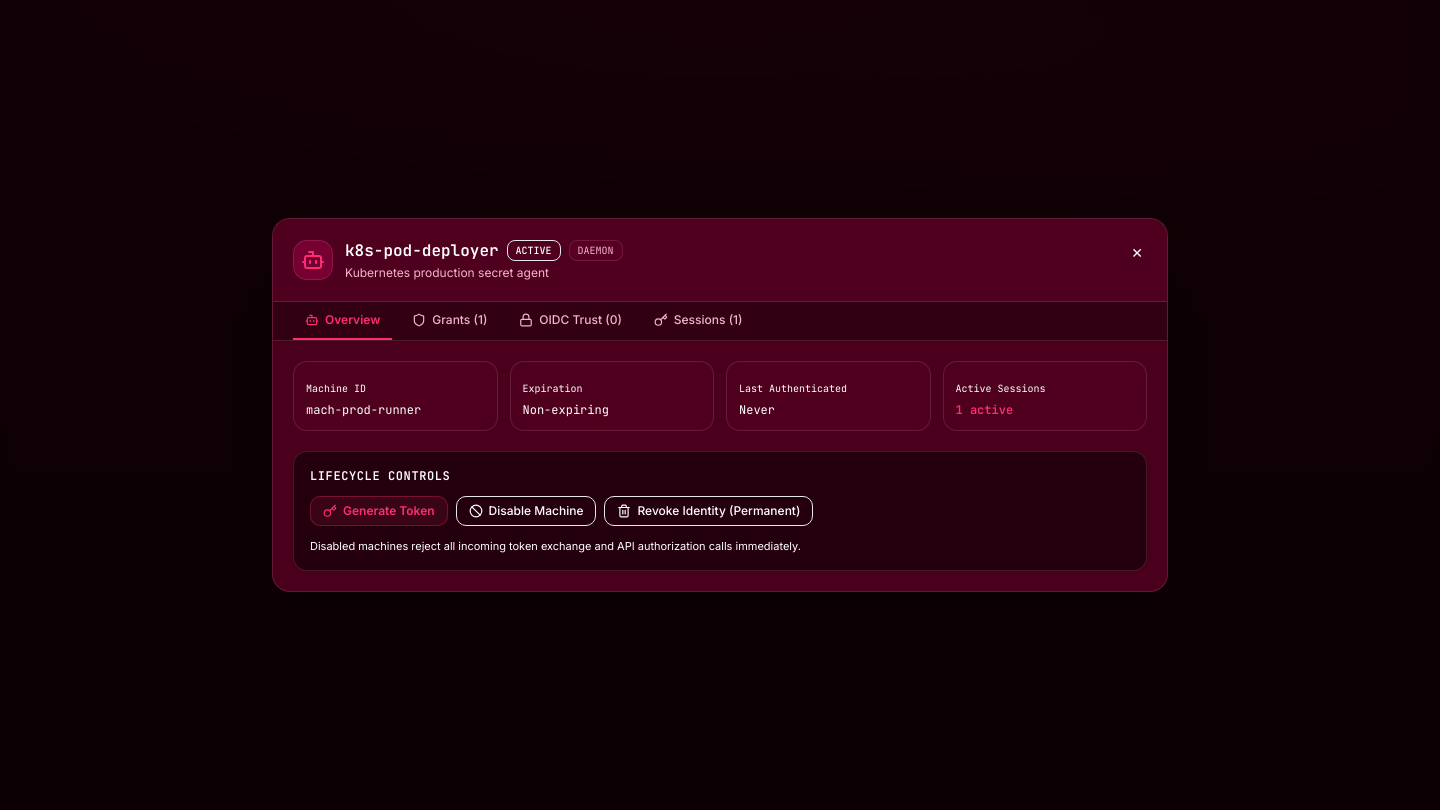
Test: Machine Identities & OIDC Providers UI Suite › MachineDetailsModal & Direct Token Generation › opens Generate Token modal and receives production SDK token snippet
The image size is (1440, 810).
Expected: the heading "k8s-pod-deployer" is shown, top-left (345, 239), bottom-right (499, 263)
Click "Generate Token" from overview lifecycle controls
Click the button "Generate Token": (379, 511) top-left (310, 496), bottom-right (448, 526)
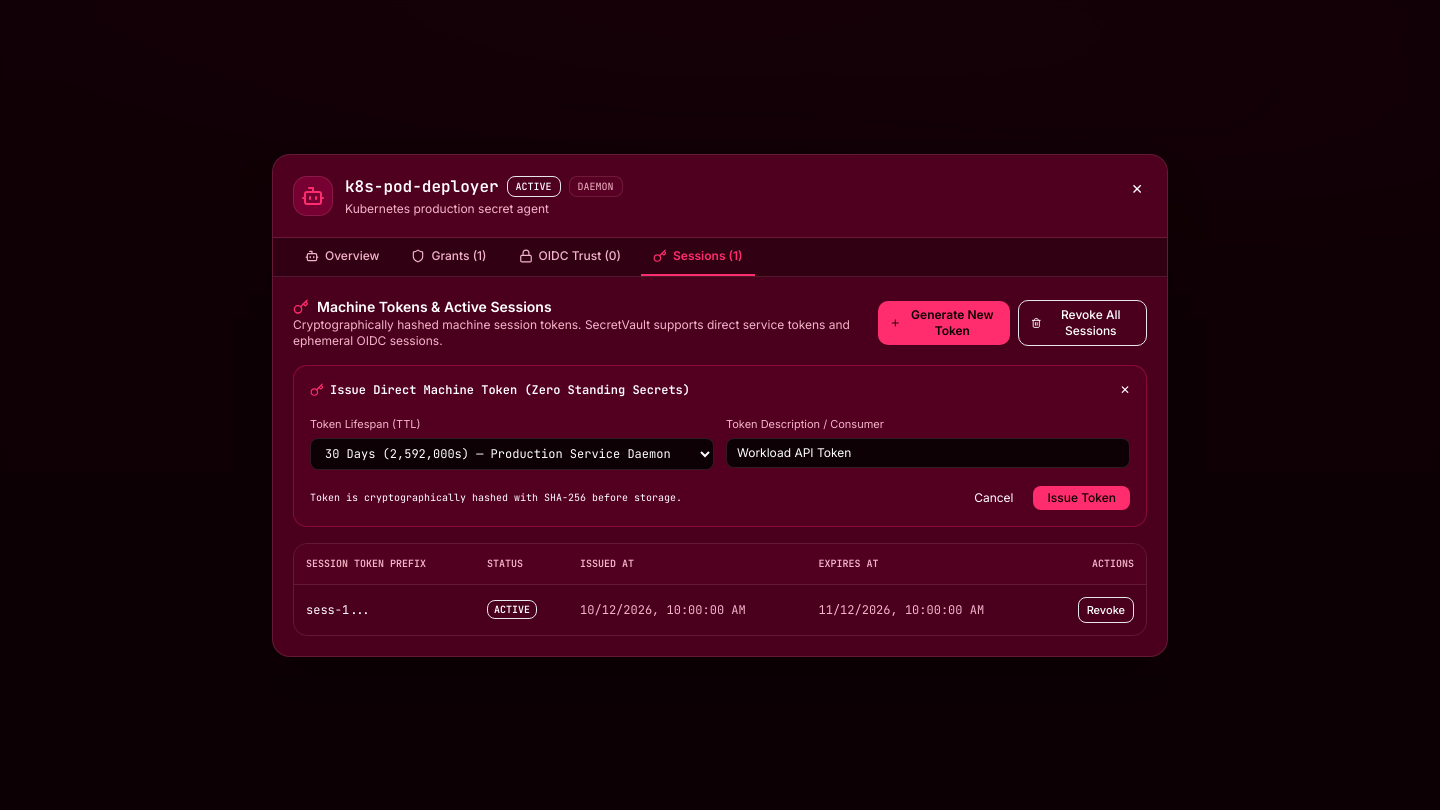
Expected: the heading "Issue Direct Machine Token (Zero Standing Secrets)" is shown, top-left (310, 382), bottom-right (690, 398)
Submit token issuance
Click the button "Issue Token": (1082, 498) top-left (1034, 486), bottom-right (1130, 510)
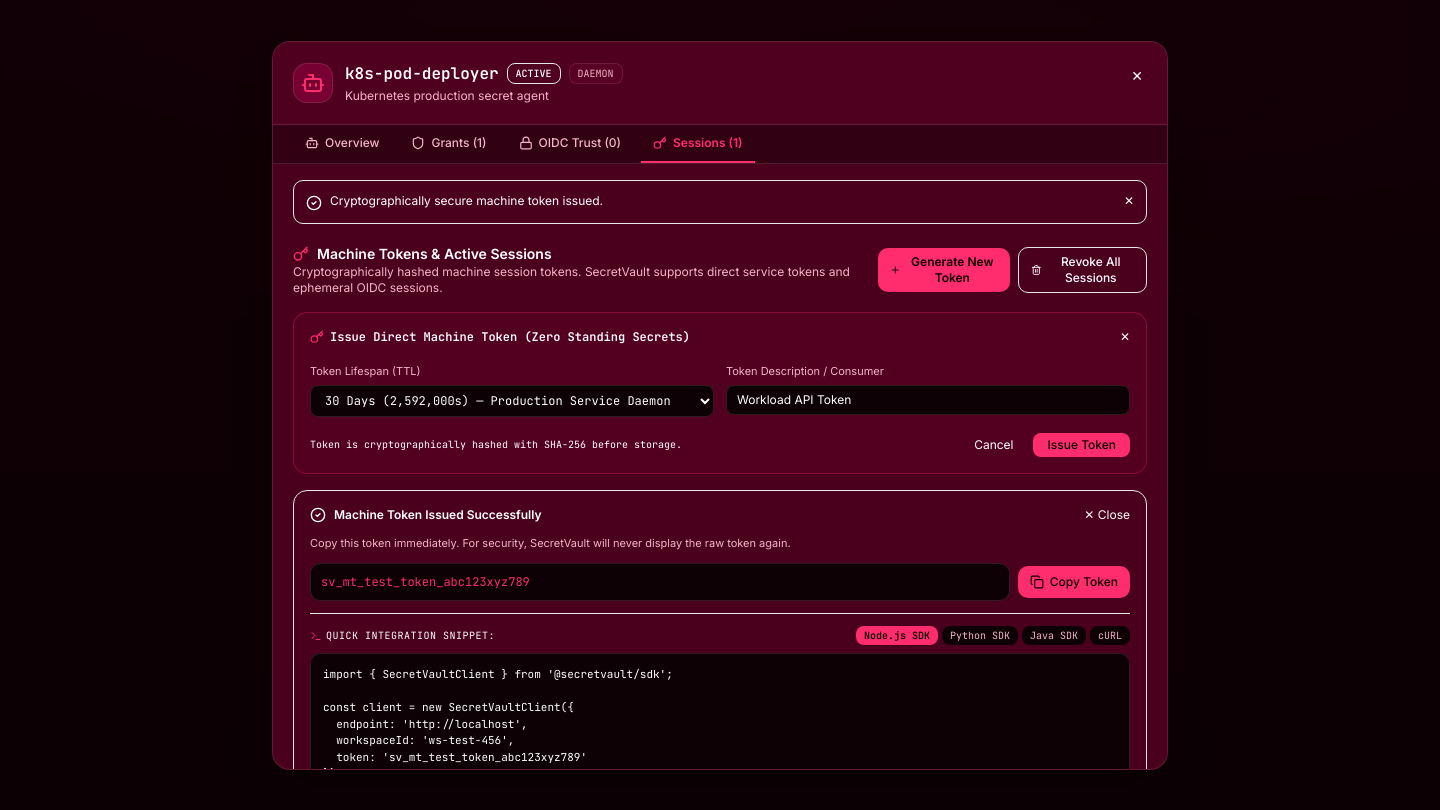
Expected: the text "Machine Token Issued Successfully" is shown, top-left (310, 506), bottom-right (542, 522)
Expected: the text "sv_mt_test_token_abc123xyz789" is shown, top-left (310, 563), bottom-right (1010, 601)
Expected: the button "Node.js SDK" is shown, top-left (856, 626), bottom-right (938, 645)
Switch to Python SDK tab
Click the button "Python SDK": (980, 636) top-left (942, 626), bottom-right (1018, 645)
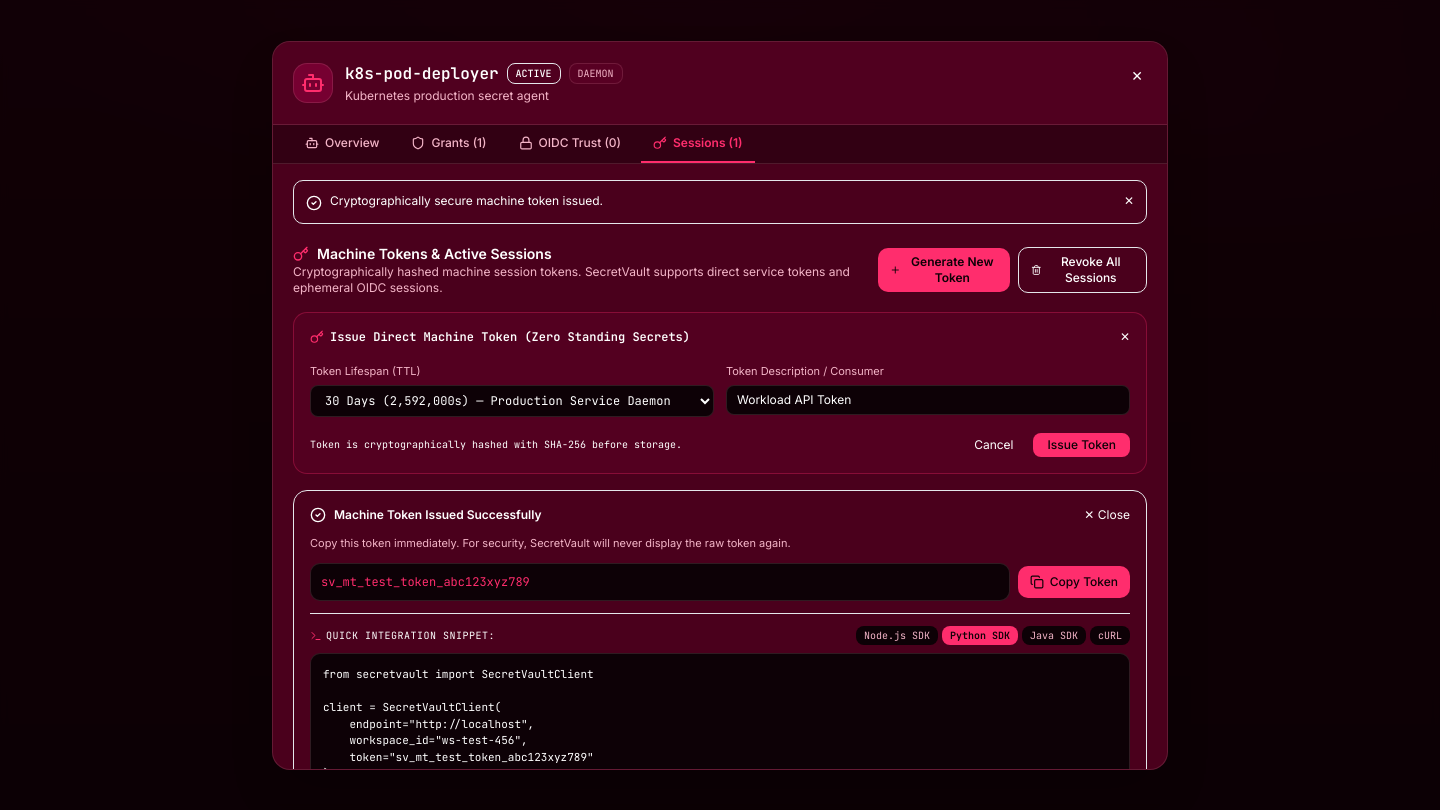
Switch to Java SDK tab
Click the button "Java SDK": (1054, 636) top-left (1022, 626), bottom-right (1086, 645)
(page scrolled)
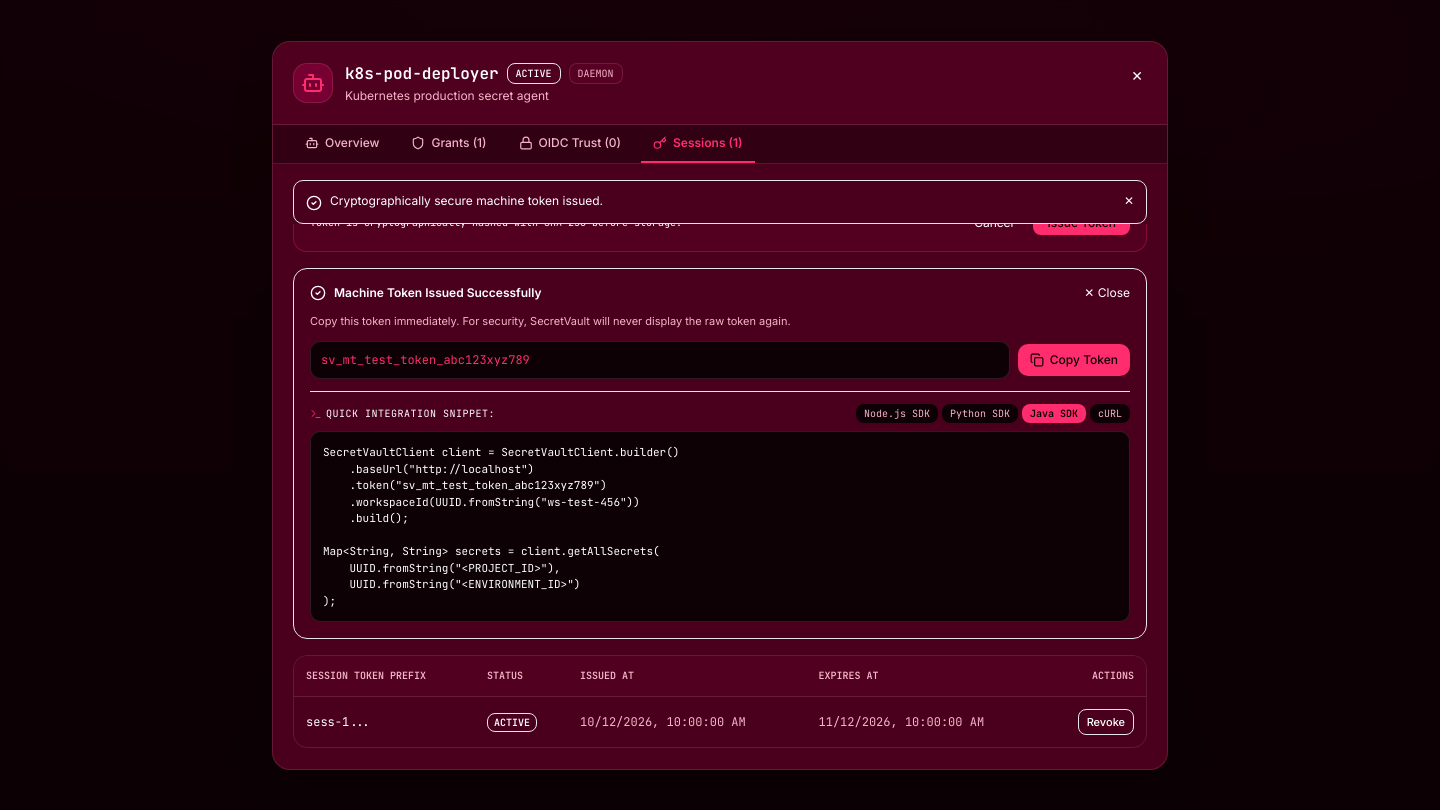
Expected: the text "SecretVaultClient.builder()" is shown, top-left (323, 445), bottom-right (679, 608)
